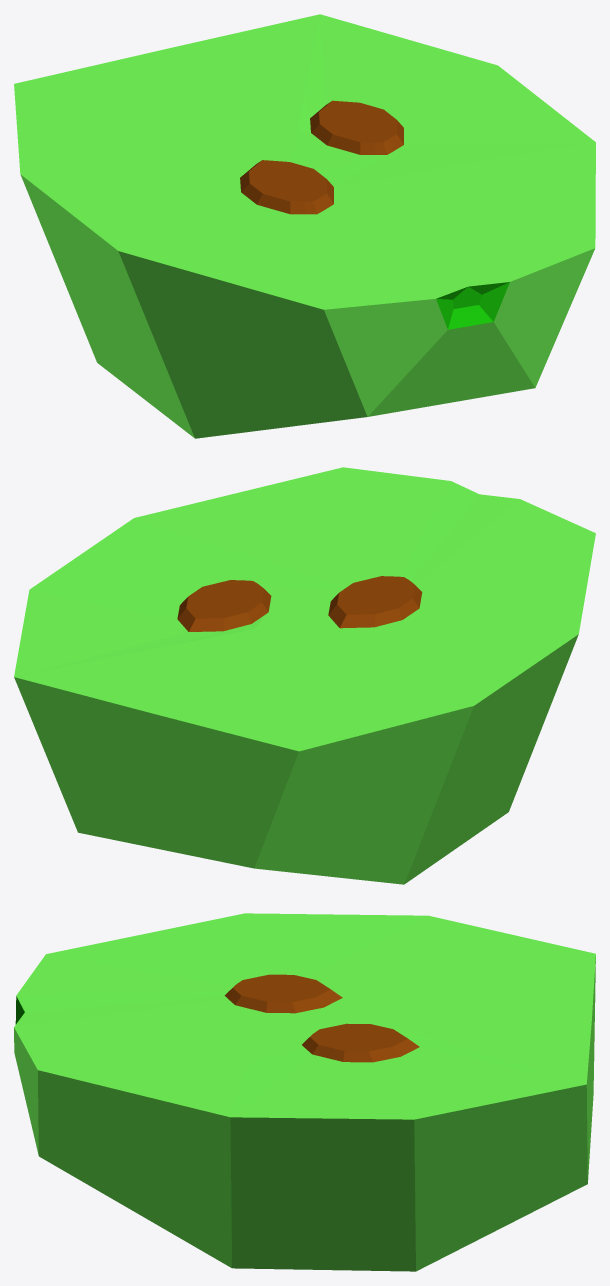
File: grapes03.obj
3 views of the same model, one above another, from view 1: azimuth 30°, elevation 25°; view 2: azimuth 150°, elevation 25°; view 3: azimuth 270°, elevation 25° (orthographic). The views are drawn at different scales.
Parts seen in each view (by area): view 1: Cylinder.001; view 2: Cylinder.001; view 3: Cylinder.001.
Part boxes in pixels (x1,y1,x2,y2): Cylinder.001: [14, 14, 595, 438]; Cylinder.001: [14, 467, 595, 884]; Cylinder.001: [14, 913, 595, 1271].
Bounding box in the file's own units: 0.0196 × 0.00908 × 0.0234.
Materials: 1 (1 with a texture image).
